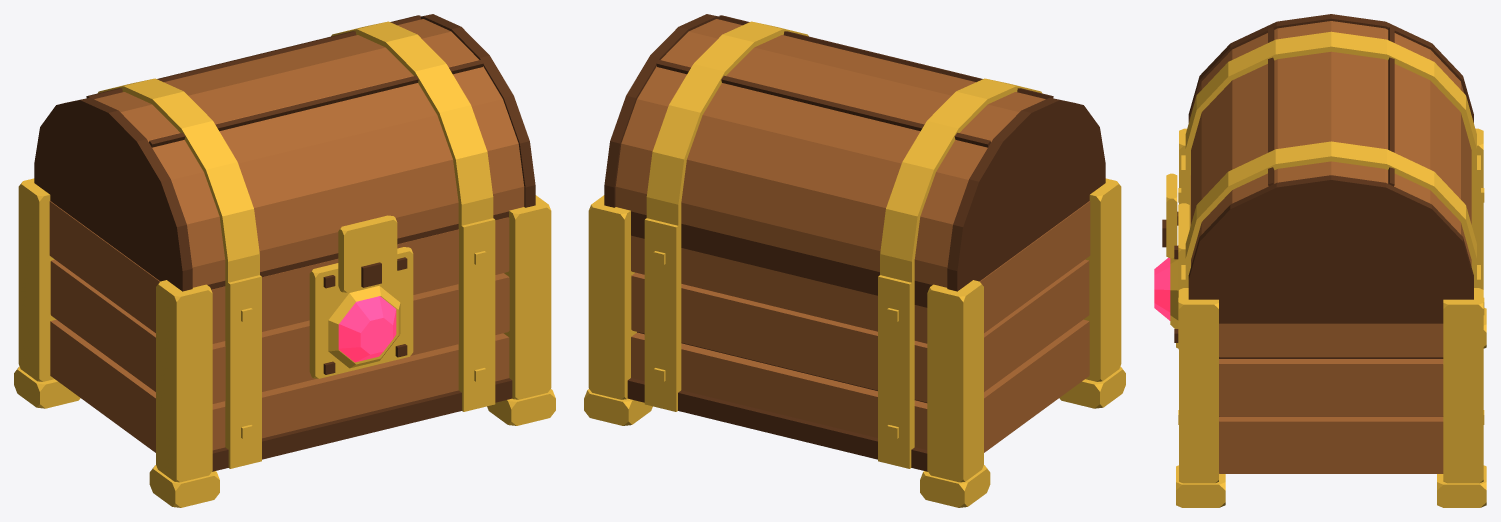
File: gift_chest.glb
The picture shows the model from 3 angles, left to right: view 1: azimuth 30°, elevation 25°; view 2: azimuth 150°, elevation 25°; view 3: azimuth 270°, elevation 25°; orthographic projection. The views are drawn at different scales.
Visible parts, largest first — view 1: gift_chest, lid, gem; view 2: gift_chest, lid; view 3: lid, gift_chest, gem.
Part boxes in pixels (left/top/right/bottom): gift_chest: left=14, top=178, right=555, bottom=507; lid: left=34, top=14, right=535, bottom=292; gem: left=328, top=285, right=400, bottom=368; gift_chest: left=584, top=178, right=1125, bottom=507; lid: left=604, top=14, right=1105, bottom=291; lid: left=1162, top=14, right=1476, bottom=300; gift_chest: left=1174, top=128, right=1486, bottom=507; gem: left=1154, top=257, right=1178, bottom=328.
Bounding box in the file's own units: 5.28 × 4.47 × 4.15.
